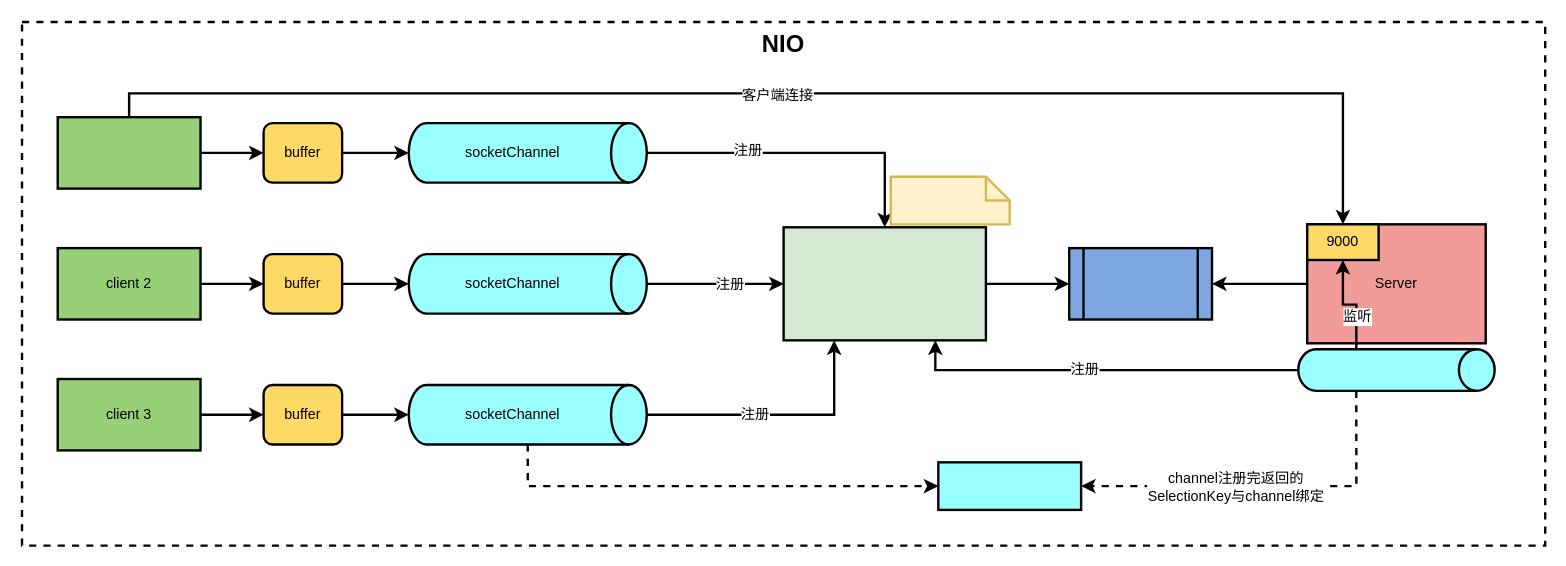
Image size: 1566x566. Some labels were removed from this diagram. Each missing label, with the centre of its shape:
"client 1" belongs at point (128, 152).
"SelectionKey" belongs at point (1009, 486).
"selector(多路复用器)" belongs at point (884, 283).
"ServerSocketChannel" belongs at point (1396, 369).
"Thread" belongs at point (1140, 283).
"就绪事件 列表rdlist" belongs at point (949, 200).
